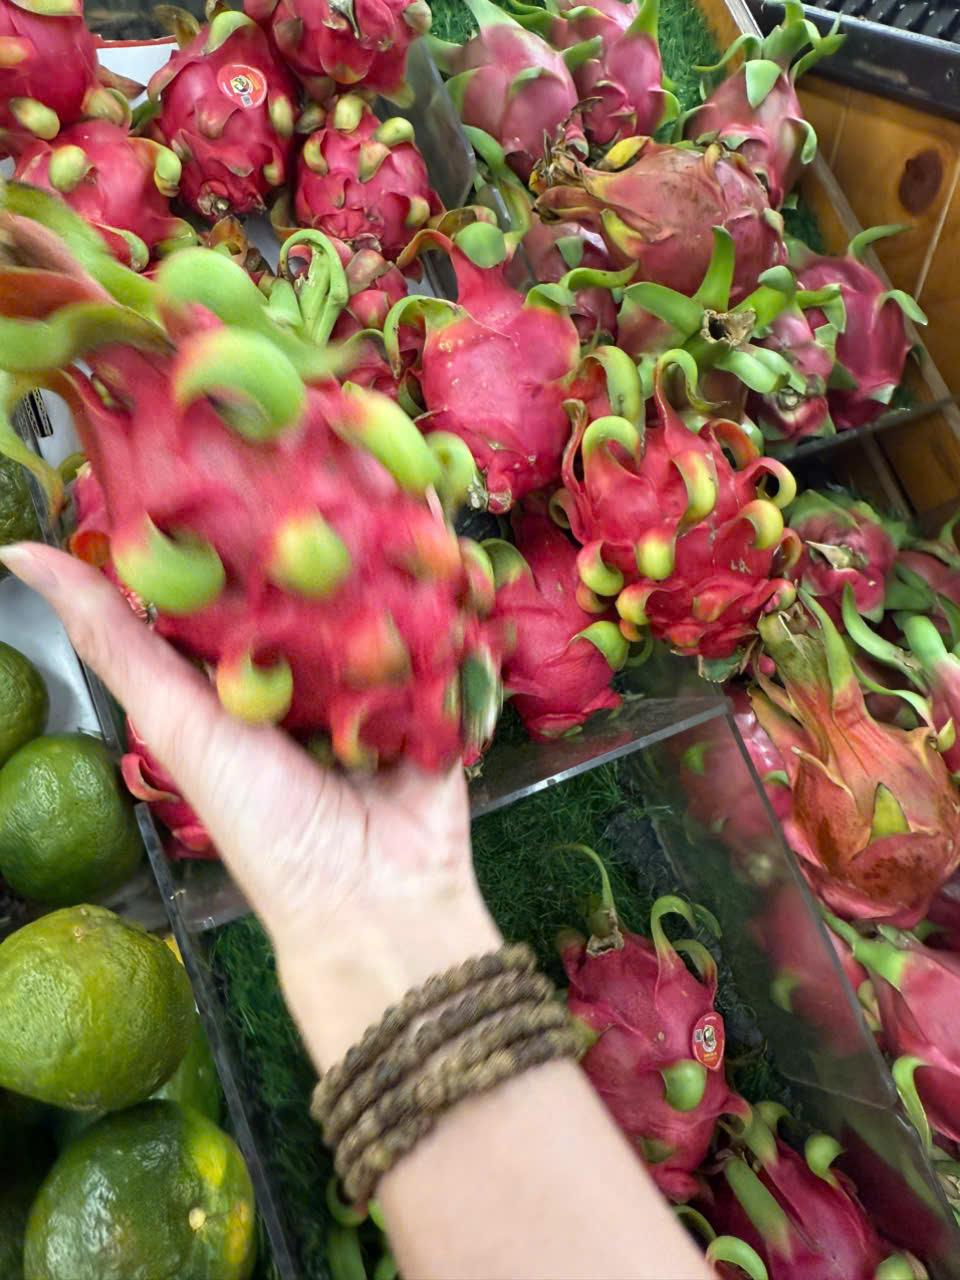dragon fruit: (565, 336, 798, 699), (400, 226, 584, 512), (155, 8, 289, 202), (301, 93, 434, 264)
